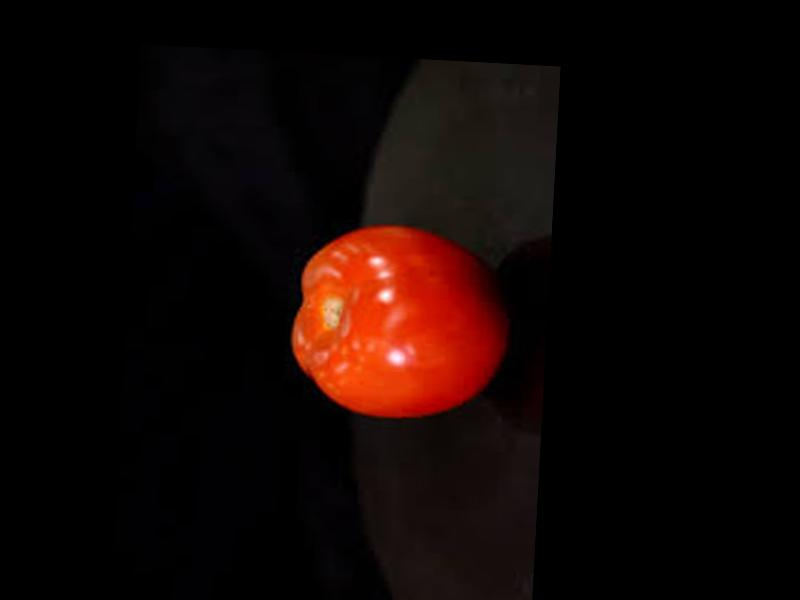Tomato: (287, 221, 509, 426)
